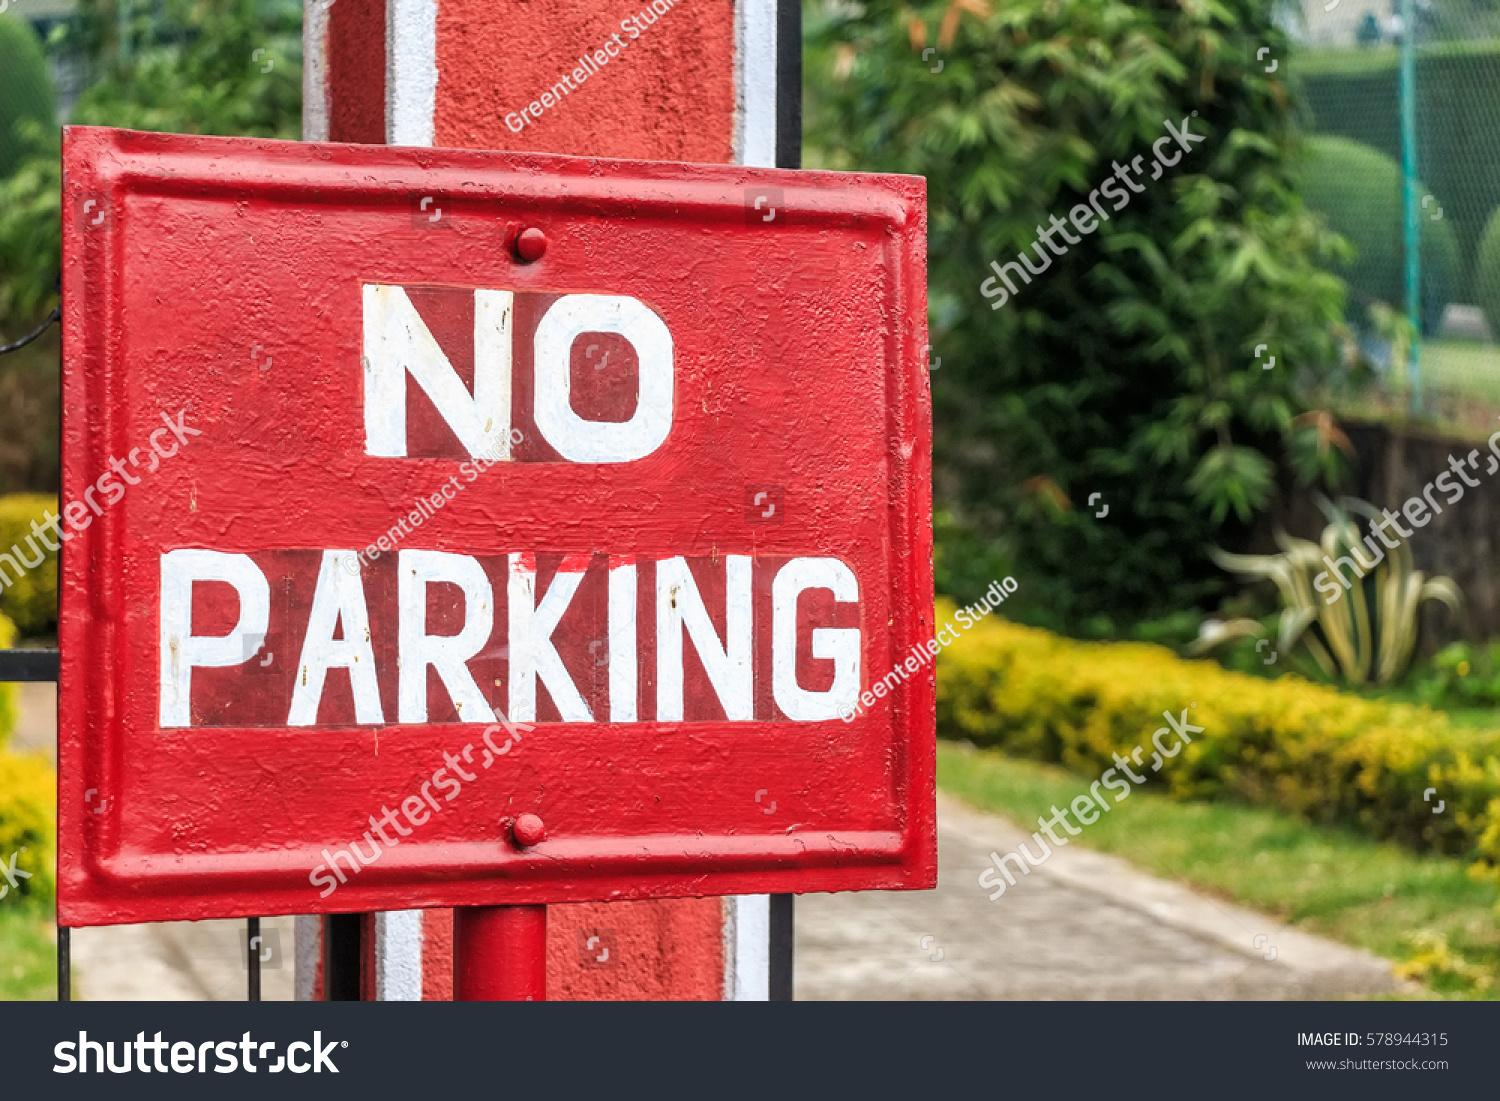No Parking: (130, 191, 869, 798)
